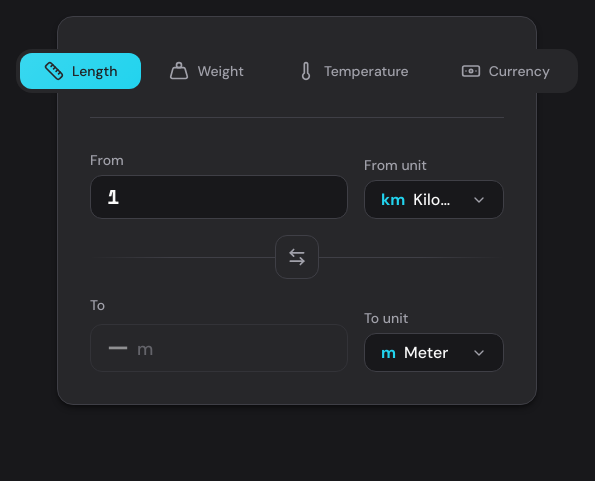
ConverterCard › unit selection › allows selecting from unit
Click the button named "unit" at [434, 199], box [364,180,504,218]
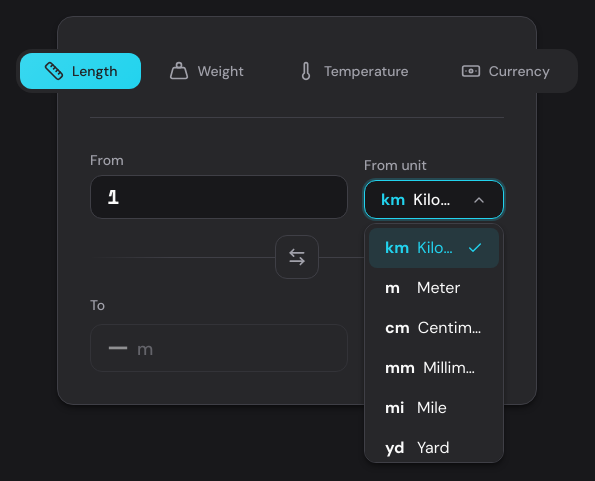
Click the text "Meter" at [439, 287], box [417,276,460,298]
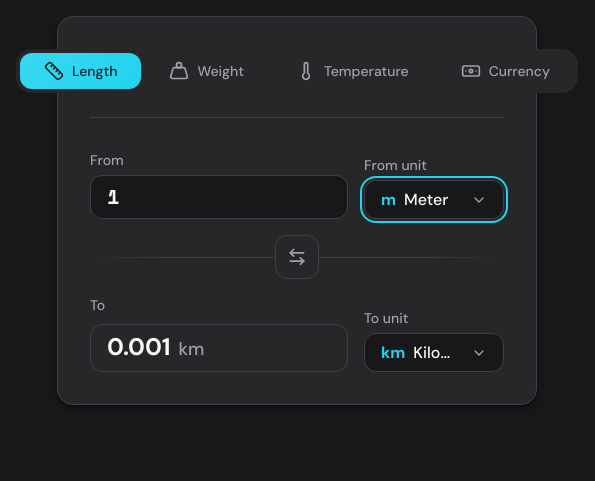
Check: the list is gone
